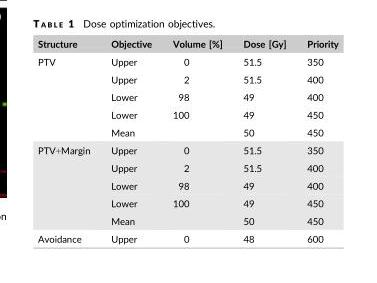table: (37, 37, 337, 243)
table column: (161, 37, 232, 243), (232, 37, 295, 243), (37, 37, 99, 243), (99, 37, 161, 243), (295, 37, 337, 243)
table column header: (37, 37, 337, 52)
table row: (37, 69, 337, 87), (37, 87, 337, 105), (37, 105, 337, 123), (37, 140, 337, 158), (37, 158, 337, 176), (37, 193, 337, 211), (37, 211, 337, 229), (37, 52, 337, 69), (37, 123, 337, 140), (37, 176, 337, 193), (37, 37, 337, 52), (37, 229, 337, 243)
table spanning cell: (37, 140, 99, 229), (37, 52, 99, 140)
